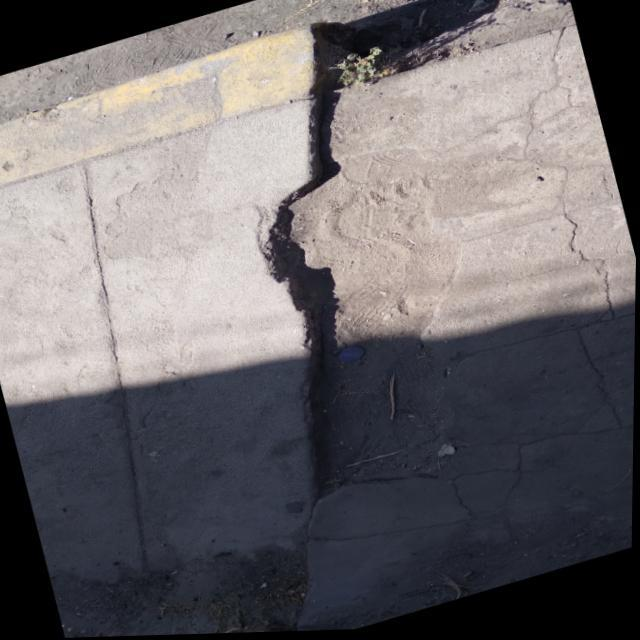hole: (230, 119, 518, 511), (293, 0, 509, 106)
